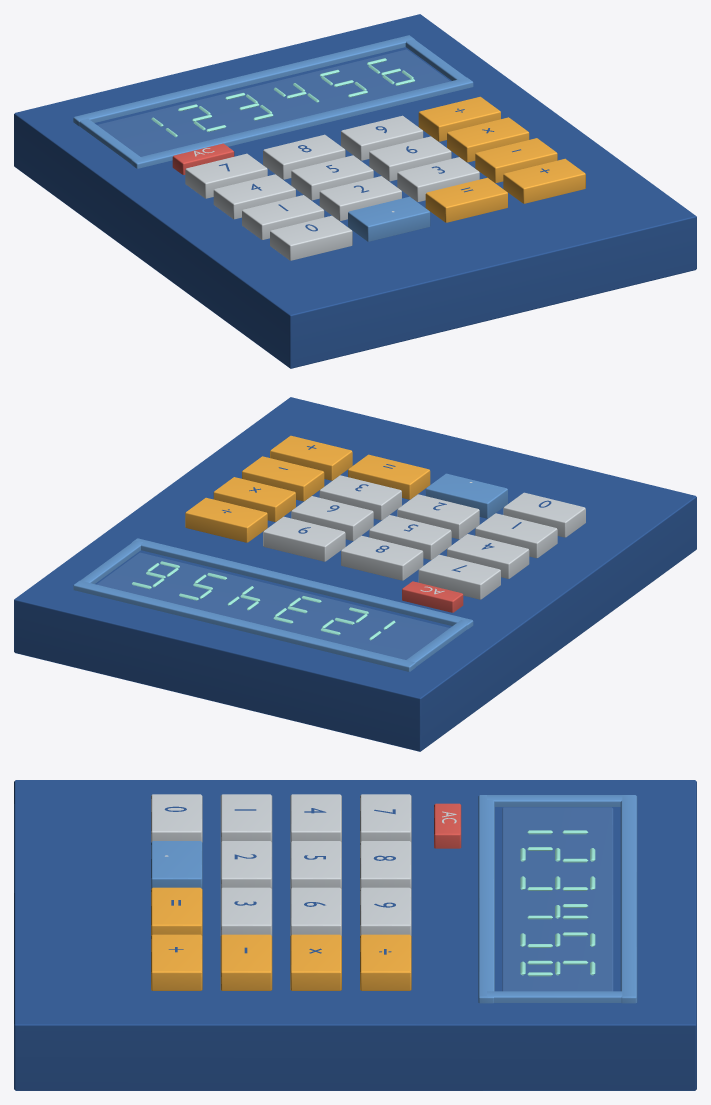
The model's file is Calculator.fbx.
The picture shows the model from 3 angles, top to bottom: view 1: azimuth 30°, elevation 25°; view 2: azimuth 150°, elevation 25°; view 3: azimuth 270°, elevation 25°; orthographic projection. The views are drawn at different scales.
Parts seen in each view (by area): view 1: Calculadora.001; view 2: Calculadora.001; view 3: Calculadora.001.
Part boxes in pixels (x1,y1,x2,y2): Calculadora.001: (14,14,696,368); Calculadora.001: (14,397,696,751); Calculadora.001: (14,780,696,1090).
Bounding box in the file's own units: 191 × 32.57 × 225.
